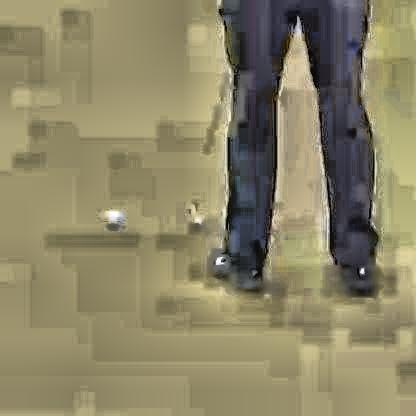golfball: (98, 206, 121, 228)
